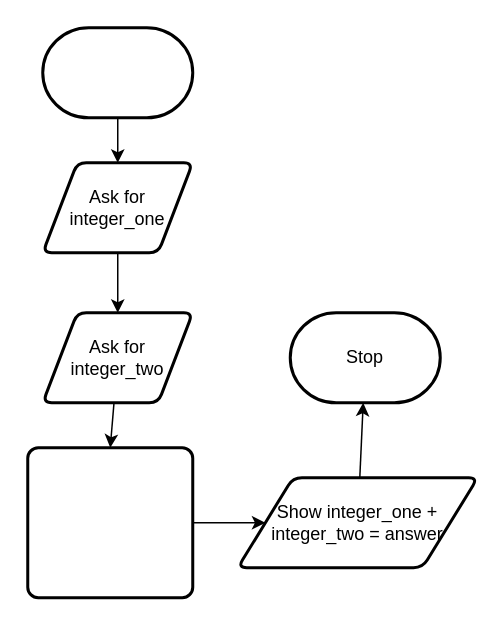
This 504x624 diagram has some shape labels left out. Each missing label, with the centre of its shape:
"answer = integer_one + integer_two" belongs at point (110, 522).
"Start" belongs at point (117, 72).
